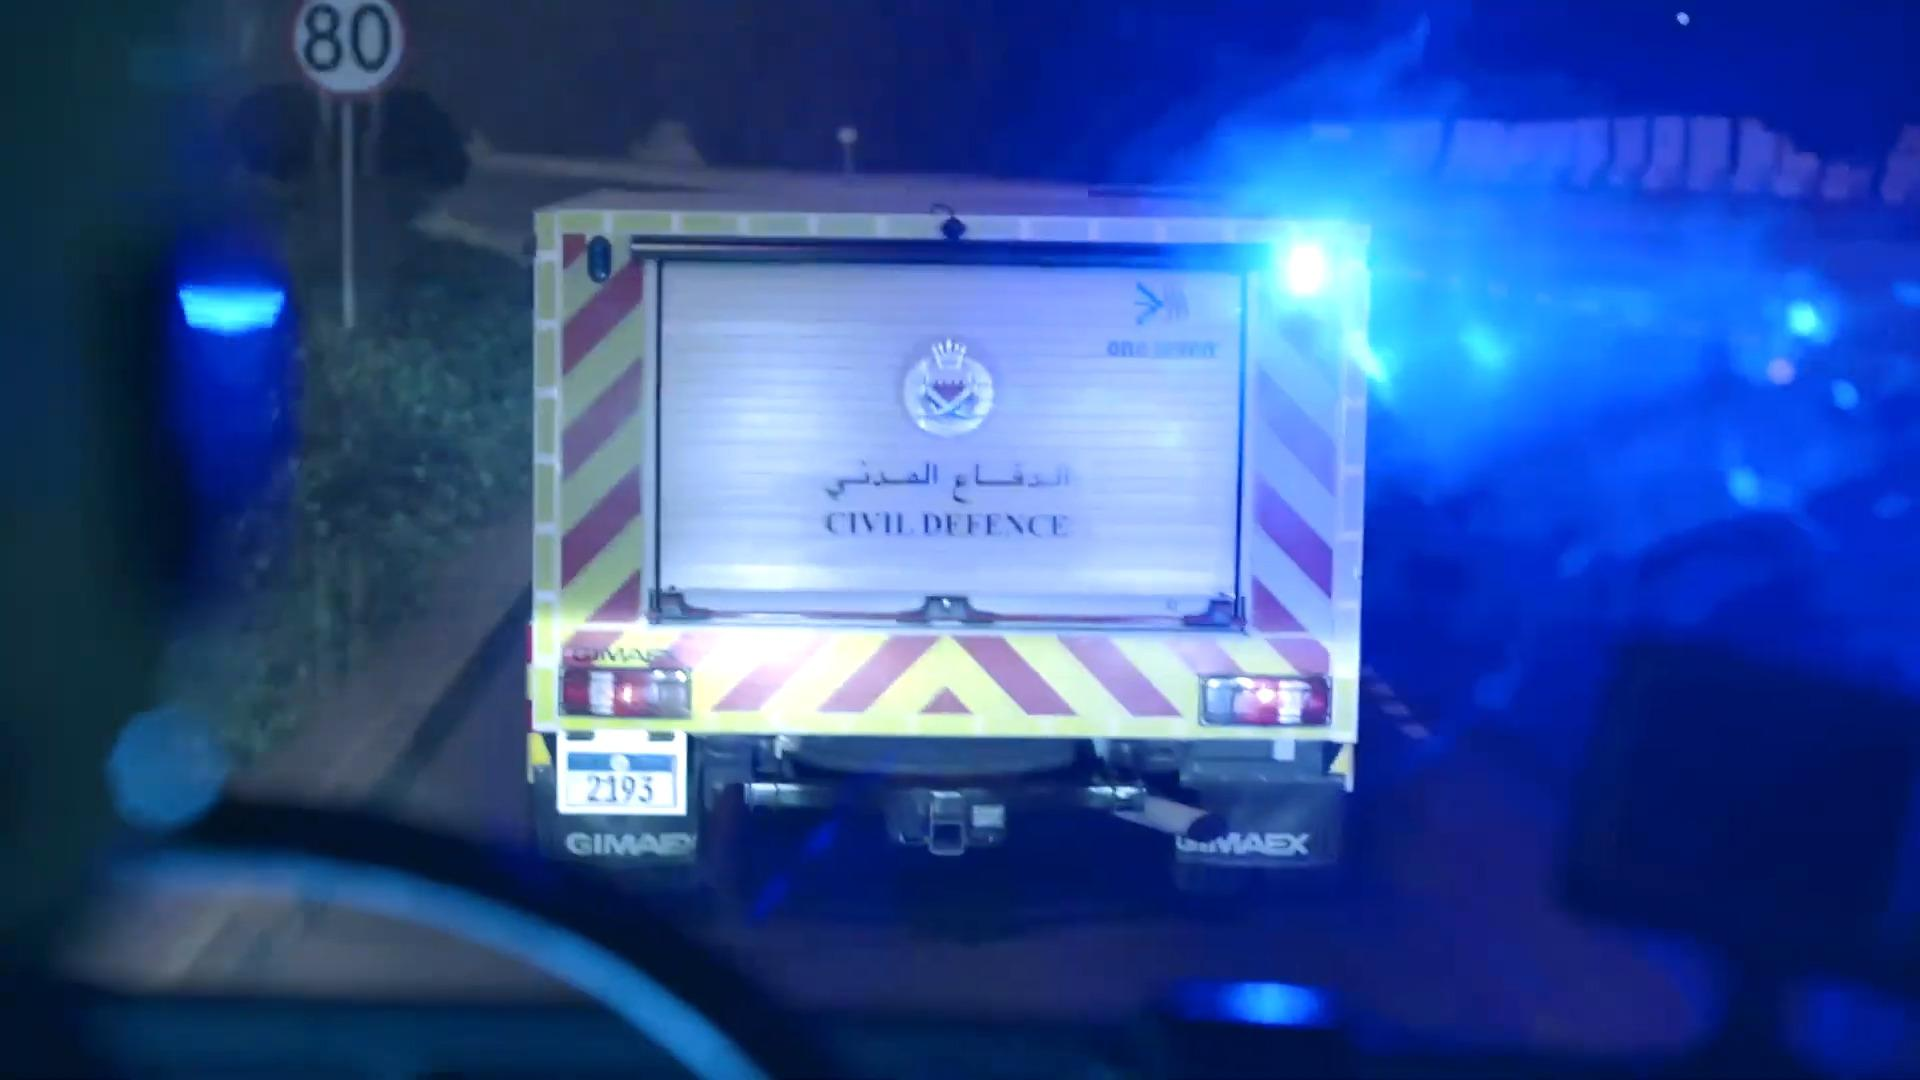firetruck_on: (530, 166, 1369, 862)
